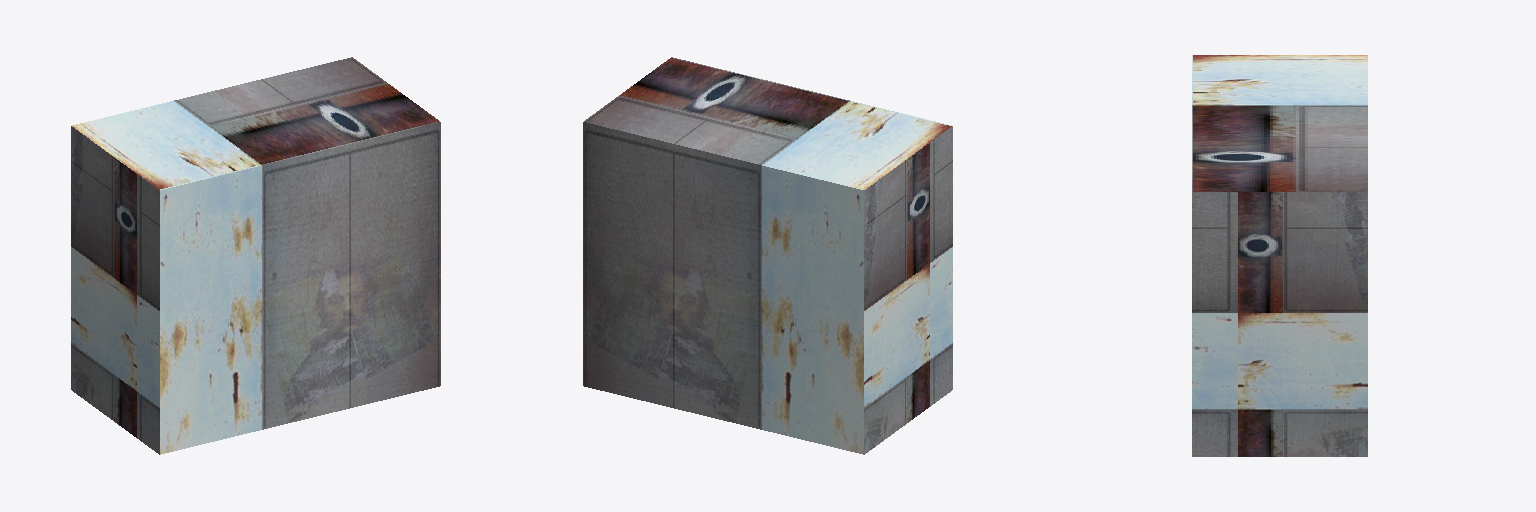
3 renders of one model, left to right at view 1: azimuth 30°, elevation 25°; view 2: azimuth 150°, elevation 25°; view 3: azimuth 270°, elevation 25°, orthographic.
Parts seen in each view (by area): view 1: electricBox_1_v1; view 2: electricBox_1_v1; view 3: electricBox_1_v1.
Boxes of the visible parts, x1=… form: electricBox_1_v1: x1=71, y1=57, x2=440, y2=454; electricBox_1_v1: x1=583, y1=57, x2=952, y2=454; electricBox_1_v1: x1=1192, y1=55, x2=1367, y2=456.
Size of the model in its own units: 0.8 by 0.7189 by 0.4358.
1 materials, 1 textured.